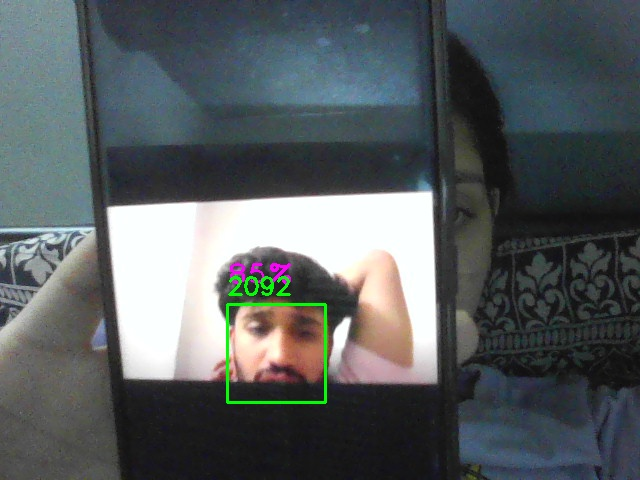fake: (227, 304, 326, 403)
